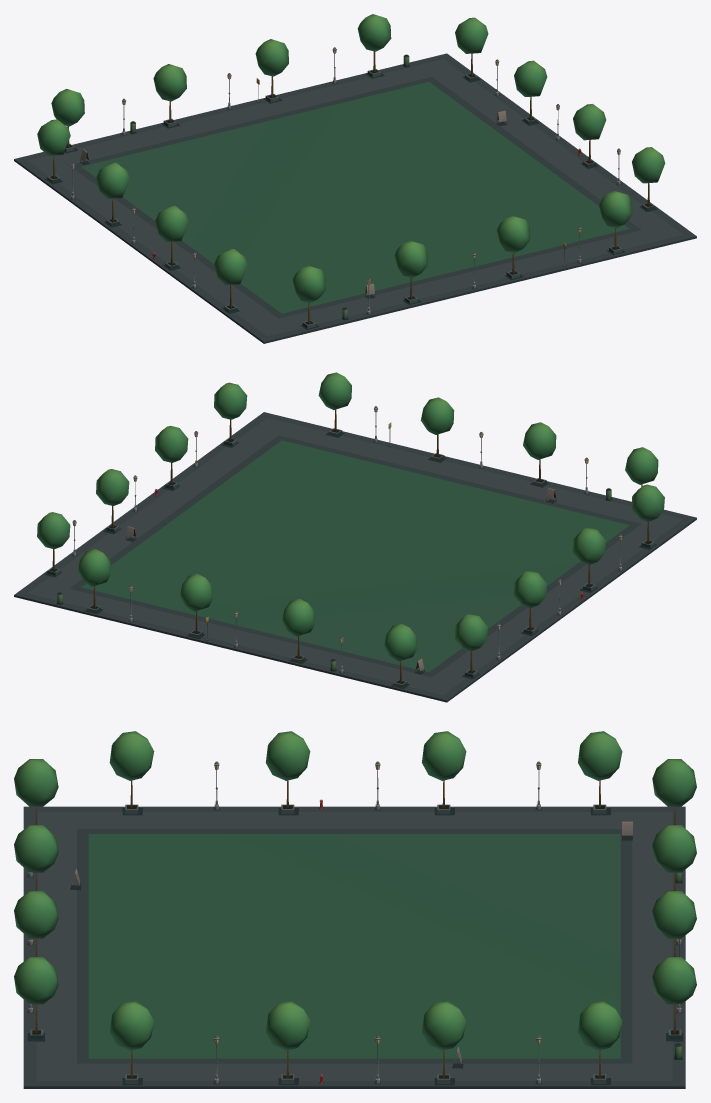
File: pavement-ascii.fbx
The picture shows the model from 3 angles, top to bottom: view 1: azimuth 30°, elevation 25°; view 2: azimuth 150°, elevation 25°; view 3: azimuth 270°, elevation 25°; orthographic projection. The views are drawn at different scales.
Visible parts, largest first — view 1: building-block-small.028; view 2: building-block-small.028; view 3: building-block-small.028.
Part boxes in pixels (bbox=[...]): building-block-small.028: bbox=[14, 14, 696, 343]; building-block-small.028: bbox=[14, 372, 696, 702]; building-block-small.028: bbox=[14, 731, 696, 1088].
Size of the model in its own units: 82.66 by 10.93 by 82.66.
